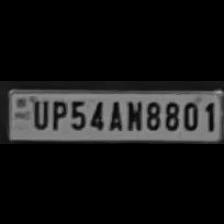0: (180, 98, 198, 130)
1: (200, 98, 218, 132)
4: (87, 96, 105, 130)
5: (66, 96, 86, 130)
8: (142, 96, 162, 130), (162, 98, 180, 132)
A: (104, 96, 124, 130)
N: (124, 96, 142, 132)
P: (47, 96, 66, 130)
U: (28, 95, 48, 129)
